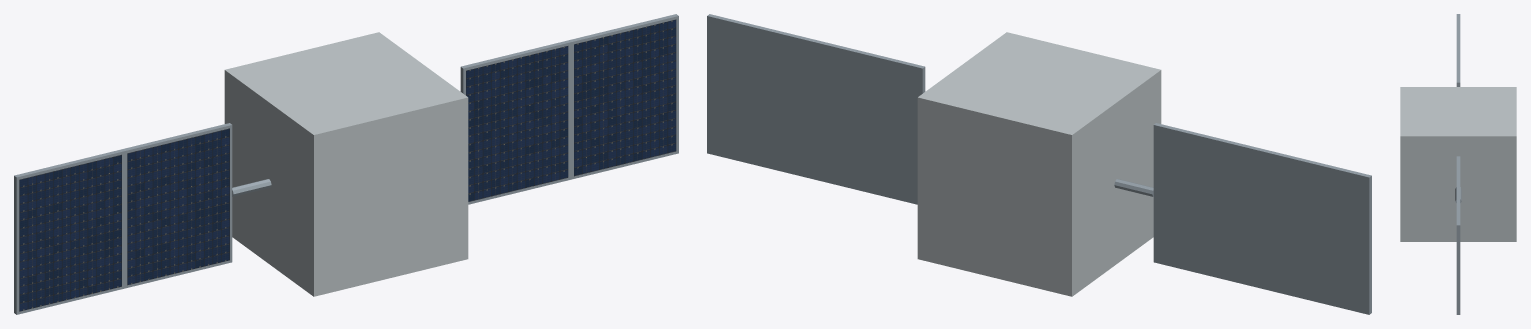
File: ref-omniflex-62632.glb
3 views of the same model, side by side, from view 1: azimuth 30°, elevation 25°; view 2: azimuth 150°, elevation 25°; view 3: azimuth 270°, elevation 25° (orthographic). The views are drawn at different scales.
Visible parts, largest first — view 1: Photovoltaic laminates (×4), Spacecraft body, Array frame (×4); view 2: Array frame (×4), Spacecraft body; view 3: Spacecraft body, Array frame (×4).
Boxes of the visible parts, x1=… form: Photovoltaic laminates (×4): x1=19, y1=19, x2=676, y2=311; Spacecraft body: x1=224, y1=32, x2=468, y2=296; Array frame (×4): x1=14, y1=14, x2=678, y2=314; Array frame (×4): x1=707, y1=14, x2=1371, y2=314; Spacecraft body: x1=917, y1=32, x2=1161, y2=296; Spacecraft body: x1=1400, y1=87, x2=1516, y2=241; Array frame (×4): x1=1456, y1=14, x2=1460, y2=314.
Bounding box in the file's own units: 3 × 0.7 × 0.7.
3 materials, 1 textured.
